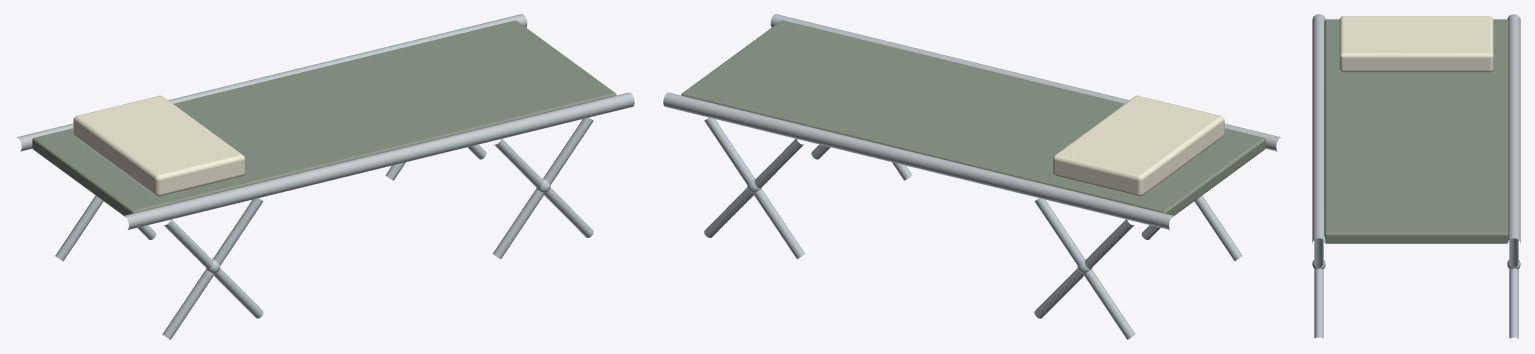
Rendered from abandoned-weather-station-and-storm-shelter-folding-ca-4679a429__31044.glb.
3 views of the same model, side by side, from view 1: azimuth 30°, elevation 25°; view 2: azimuth 150°, elevation 25°; view 3: azimuth 270°, elevation 25° (orthographic). The views are drawn at different scales.
Visible parts, largest first — view 1: folding-camp-cot; view 2: folding-camp-cot; view 3: folding-camp-cot.
Part boxes in pixels (x1,y1,x2,y2): folding-camp-cot: (17,14,634,339); folding-camp-cot: (663,14,1280,339); folding-camp-cot: (1312,14,1520,338).
Size of the model in its own units: 1.96 by 0.5709 by 0.77.
